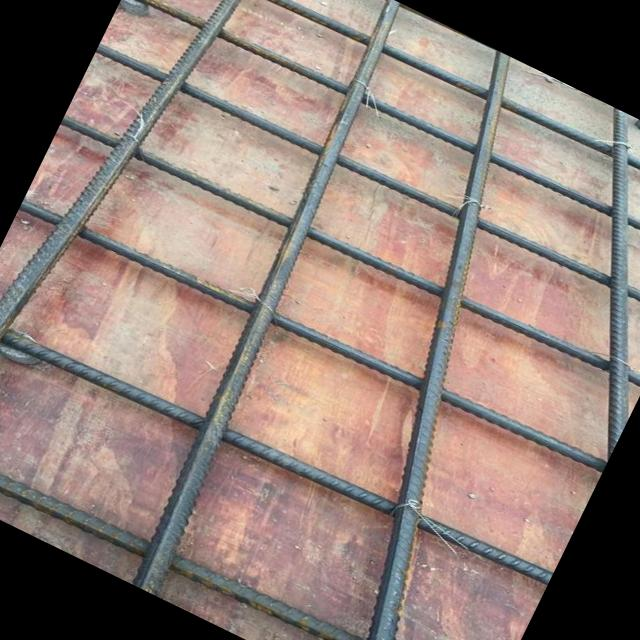ribbed bar: (215, 49, 640, 640), (103, 0, 439, 597), (18, 179, 606, 489), (59, 95, 640, 404), (0, 290, 552, 604), (94, 27, 640, 332), (0, 0, 279, 518), (123, 0, 640, 274), (146, 0, 640, 225), (0, 424, 491, 640), (472, 106, 640, 459)
